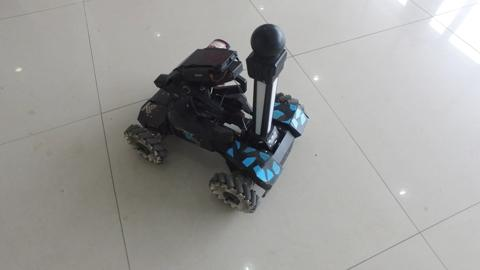chariot: (116, 20, 292, 211)
